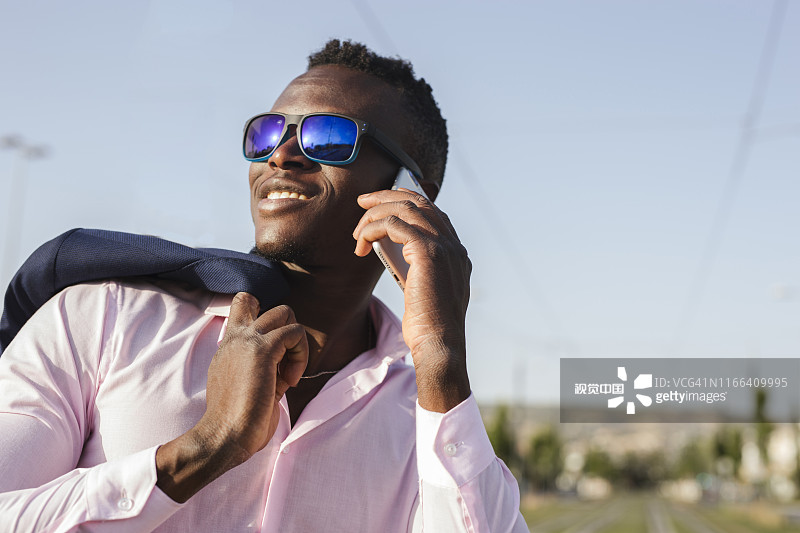calling: (338, 148, 511, 401)
no-phone: (154, 231, 326, 487)
